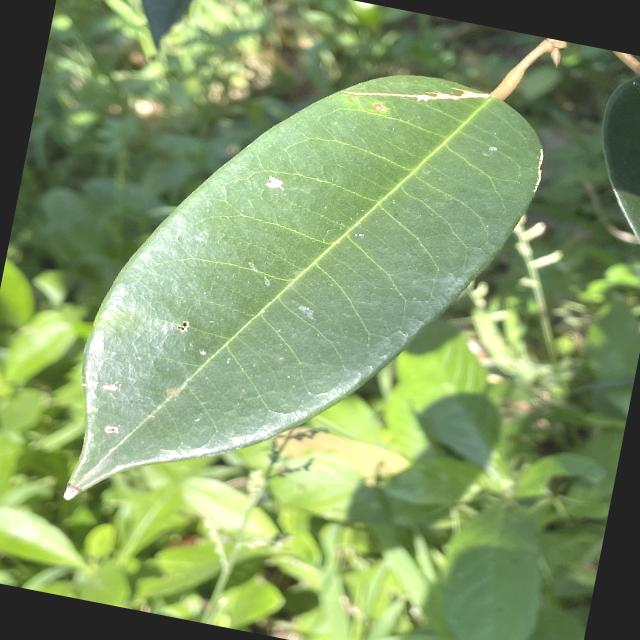No Disease: (44, 5, 566, 582)
